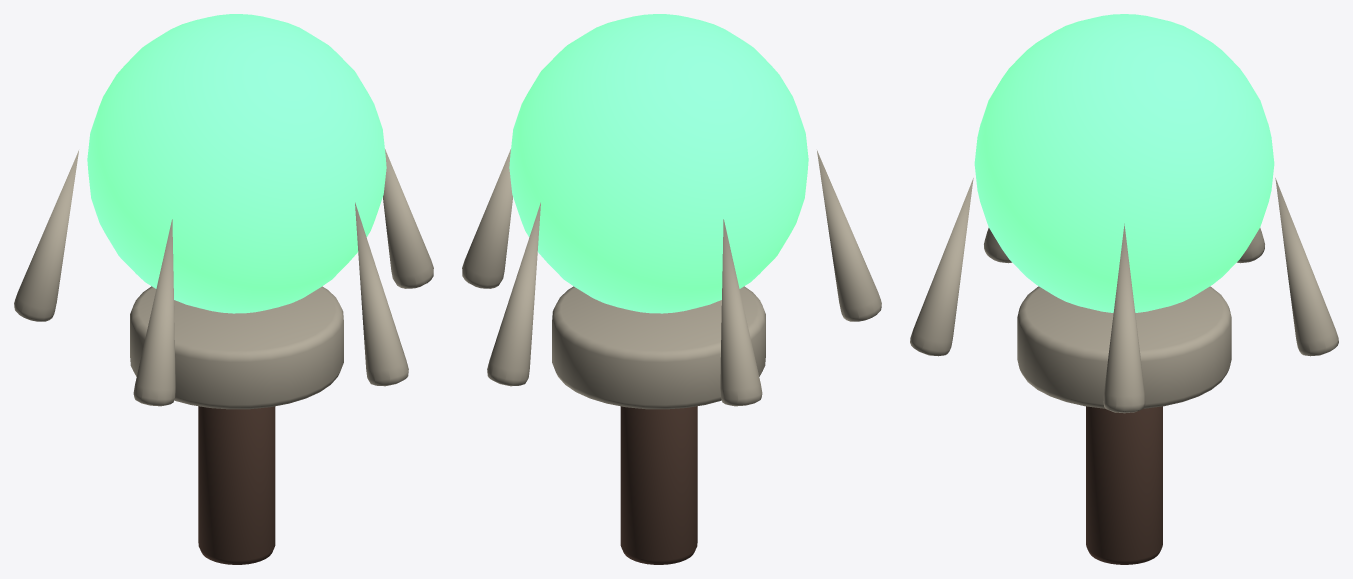
Rendered from orb_3.glb.
The picture shows the model from 3 angles, left to right: view 1: azimuth 30°, elevation 25°; view 2: azimuth 150°, elevation 25°; view 3: azimuth 270°, elevation 25°; orthographic projection.
Visible parts, largest first — view 1: orb_3; view 2: orb_3; view 3: orb_3.
Boxes of the visible parts, bbox=[...] form: orb_3: bbox=[14, 14, 433, 564]; orb_3: bbox=[462, 14, 881, 564]; orb_3: bbox=[910, 14, 1338, 564].
Size of the model in its own units: 0.1984 by 0.28 by 0.2077.
